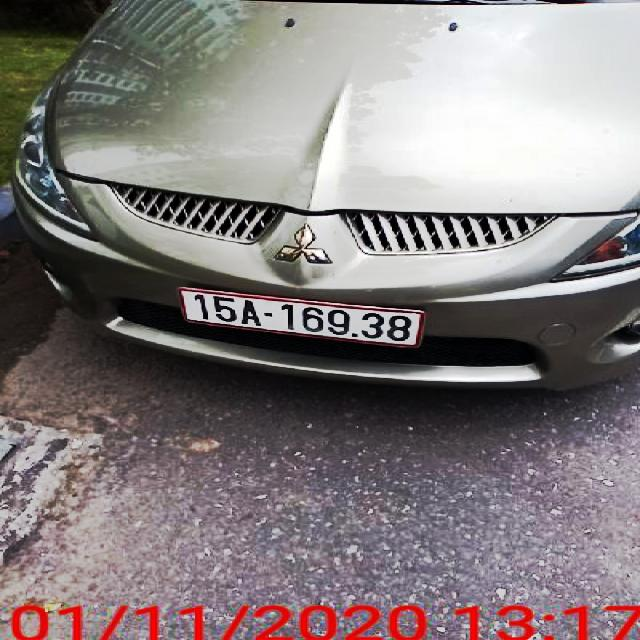license_plate: (180, 290, 433, 352)
